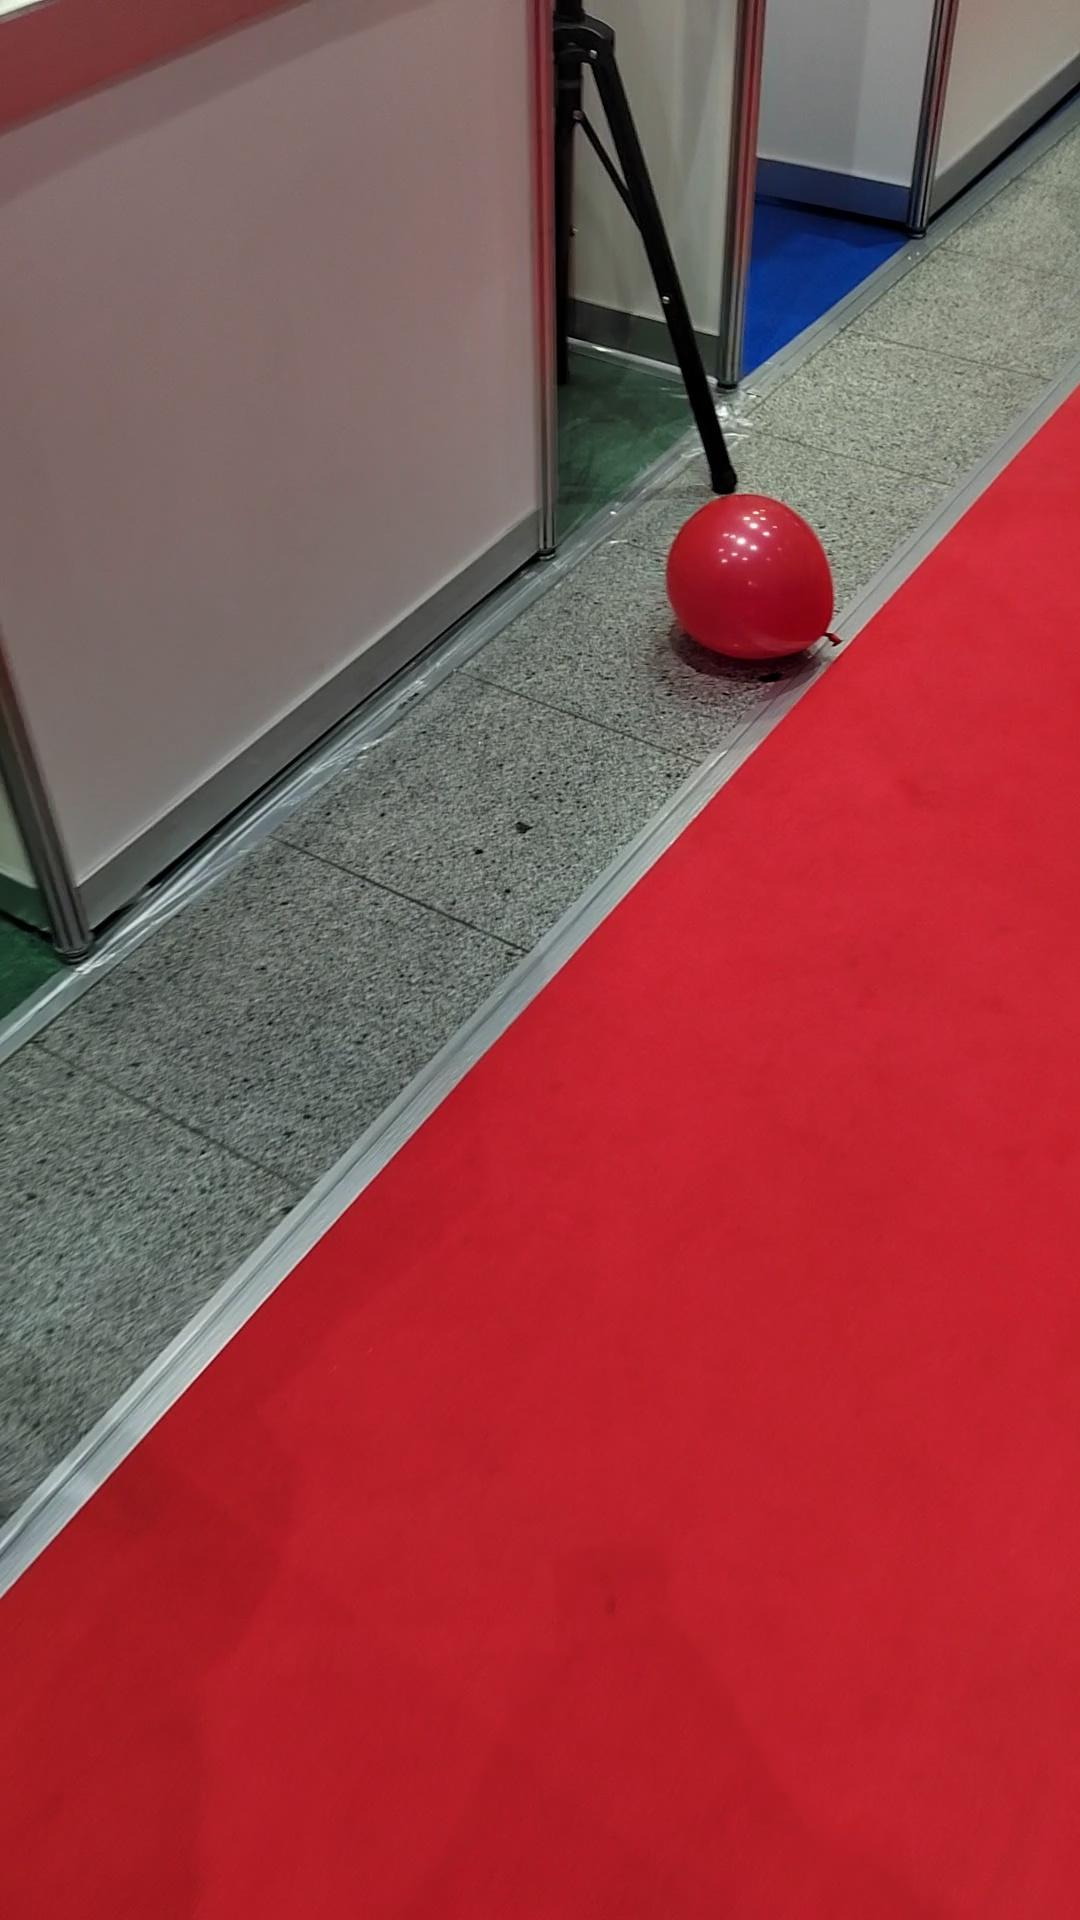red: (663, 491, 837, 675)
